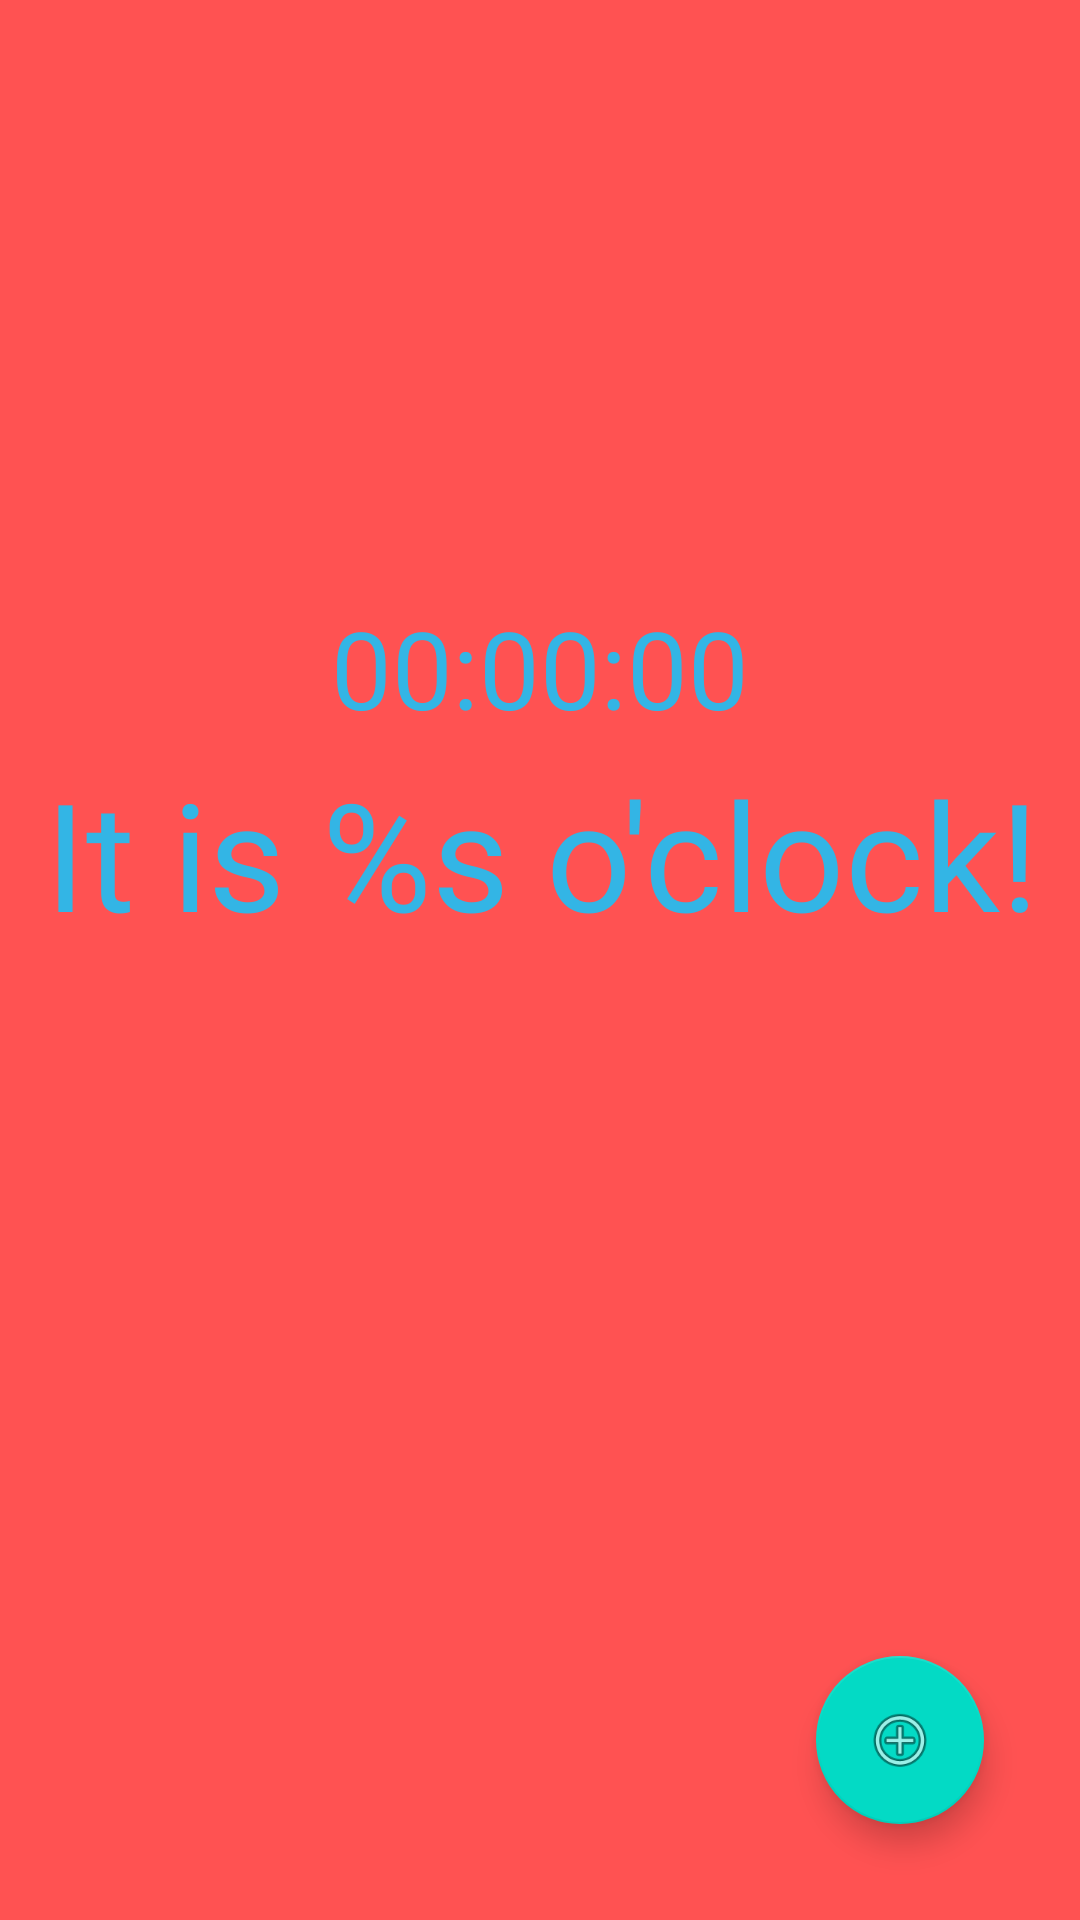

Where icons sit on this 1080×1920 app screen, as (x1, y1, x2, y2):
add: (816, 1656, 984, 1824)
